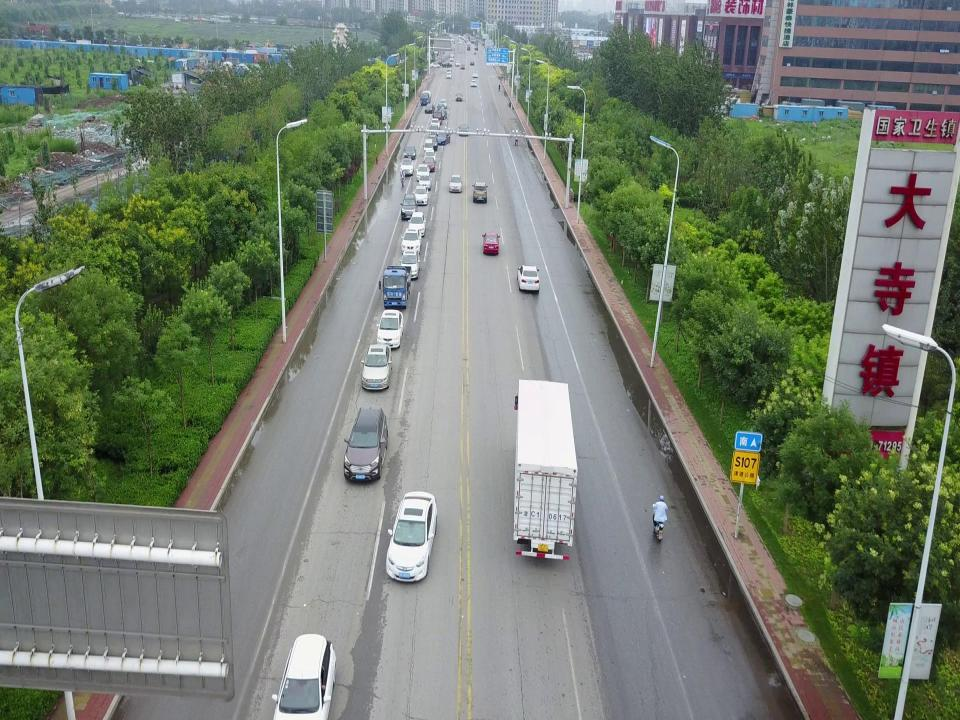car: (270, 632, 337, 720), (384, 491, 438, 584), (341, 406, 389, 485), (360, 343, 392, 393), (376, 308, 404, 350), (399, 249, 421, 279), (516, 265, 540, 292), (401, 228, 422, 254), (400, 193, 418, 220), (408, 212, 426, 238), (482, 231, 500, 255), (471, 181, 489, 203), (412, 185, 429, 206), (448, 175, 464, 192), (400, 158, 414, 176), (416, 164, 430, 181), (418, 174, 432, 190), (422, 156, 436, 172), (436, 131, 450, 146), (423, 150, 437, 164), (431, 109, 443, 124), (427, 134, 438, 150), (404, 144, 416, 158), (458, 122, 470, 136), (429, 124, 439, 139), (436, 109, 448, 120), (430, 118, 440, 130), (424, 103, 436, 113), (439, 98, 448, 108), (455, 92, 463, 101), (429, 62, 441, 68), (442, 61, 452, 68), (470, 79, 478, 87), (446, 72, 452, 79), (472, 72, 478, 78), (454, 61, 460, 66), (469, 60, 475, 65), (461, 64, 465, 70)
truck: (514, 378, 580, 566), (420, 90, 432, 105)
van: (422, 139, 434, 155), (437, 103, 445, 114)
